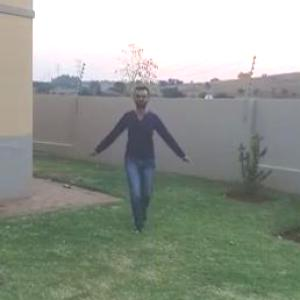land: (92, 87, 189, 226)
